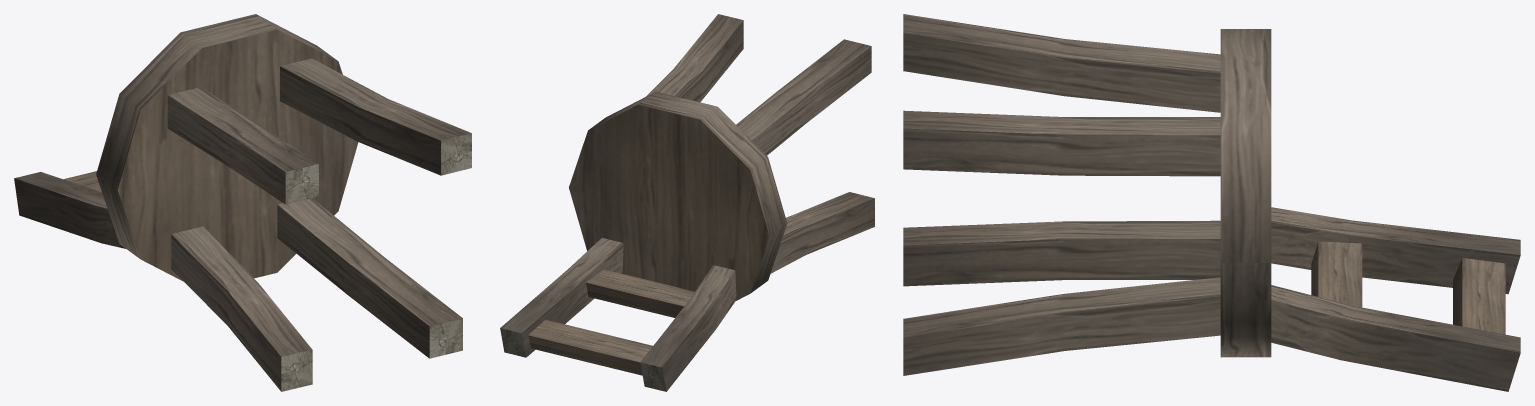
The model's file is BarStool_B.fbx.
The picture shows the model from 3 angles, left to right: view 1: azimuth 30°, elevation 25°; view 2: azimuth 150°, elevation 25°; view 3: azimuth 270°, elevation 25°; orthographic projection. The views are drawn at different scales.
Parts seen in each view (by area): view 1: BarStool_B; view 2: BarStool_B; view 3: BarStool_B.
Boxes of the visible parts, x1,y1,x2,y2 form: BarStool_B: (14, 14, 471, 391); BarStool_B: (500, 14, 874, 391); BarStool_B: (903, 14, 1520, 391).
Size of the model in its own units: 0.7003 by 0.666 by 1.31.
